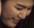without_mask: (1, 2, 34, 28)
